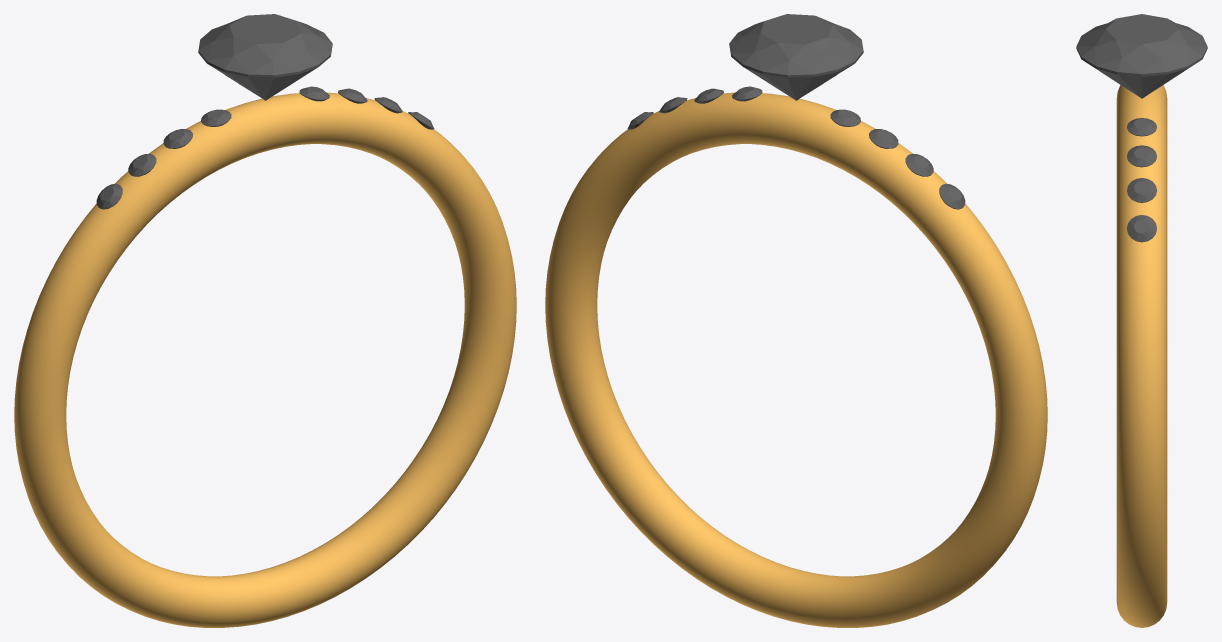
The model's file is ring-pave.glb.
3 views of the same model, side by side, from view 1: azimuth 30°, elevation 25°; view 2: azimuth 150°, elevation 25°; view 3: azimuth 270°, elevation 25° (orthographic). The views are drawn at different scales.
Parts seen in each view (by area): view 1: Band, Stone_Large; view 2: Band, Stone_Large; view 3: Band, Stone_Large, Accent_7, Accent_5, Accent_3, Accent_1, Stone_Medium, Stone_Small.
Part boxes in pixels (box(x1,y1,x2,y2)): Band: box(14, 92, 516, 627); Stone_Large: box(198, 14, 332, 84); Band: box(545, 92, 1047, 627); Stone_Large: box(729, 14, 863, 84); Band: box(1116, 85, 1167, 627); Stone_Large: box(1076, 14, 1207, 82); Accent_7: box(1127, 215, 1156, 242); Accent_5: box(1127, 178, 1156, 202); Accent_3: box(1127, 145, 1156, 167); Accent_1: box(1127, 118, 1156, 136); Stone_Medium: box(1106, 75, 1177, 88); Stone_Small: box(1120, 84, 1163, 98).
Bounding box in the file's own units: 2.2 × 2.5 × 0.52.
